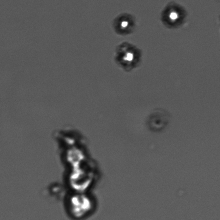Dead Cell: (147, 110, 168, 133)
Living Cell: (59, 146, 101, 193), (60, 193, 101, 218), (113, 41, 145, 71), (161, 1, 186, 28), (112, 11, 137, 37), (56, 126, 82, 147)
